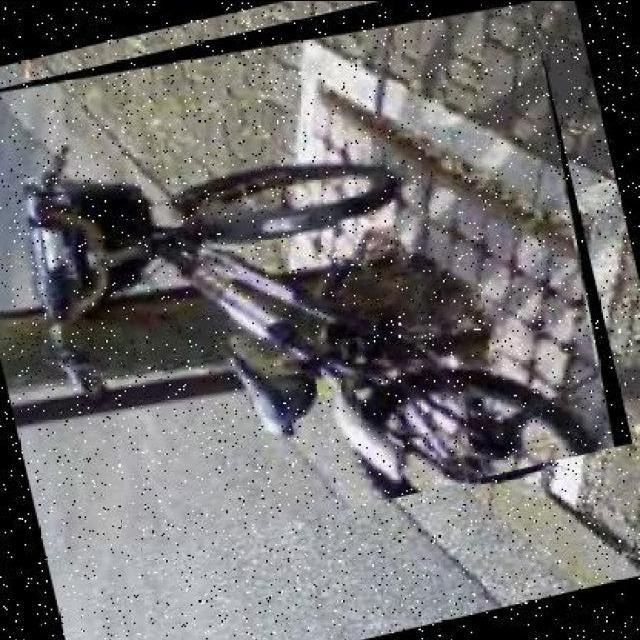bicycle: (1, 3, 636, 580)
